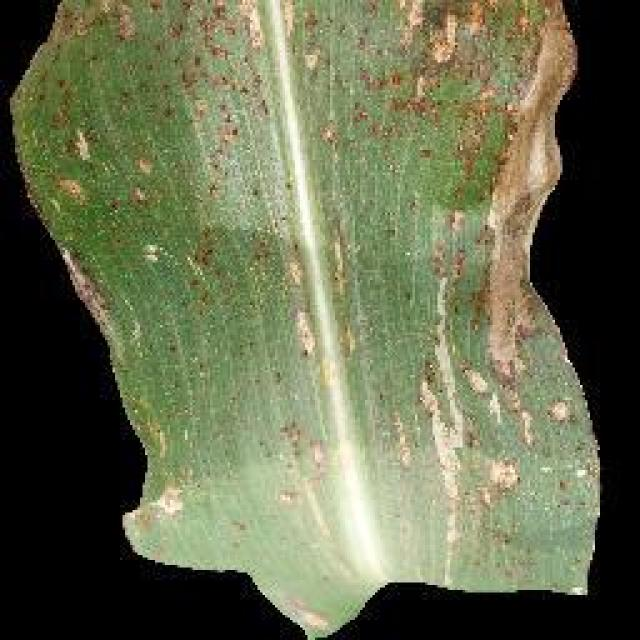Corn Common Rust: (166, 29, 640, 538)
